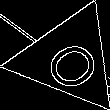O_NE: (32, 26, 105, 91)
